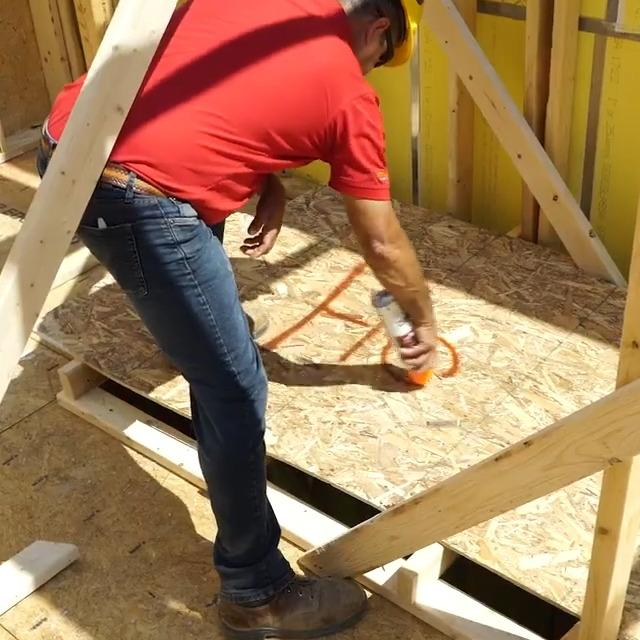Hardhat: (333, 0, 423, 67)
NO-Mask: (358, 49, 381, 77)
NO-Safety Vest: (47, 0, 364, 215)
Person: (40, 0, 437, 636)
